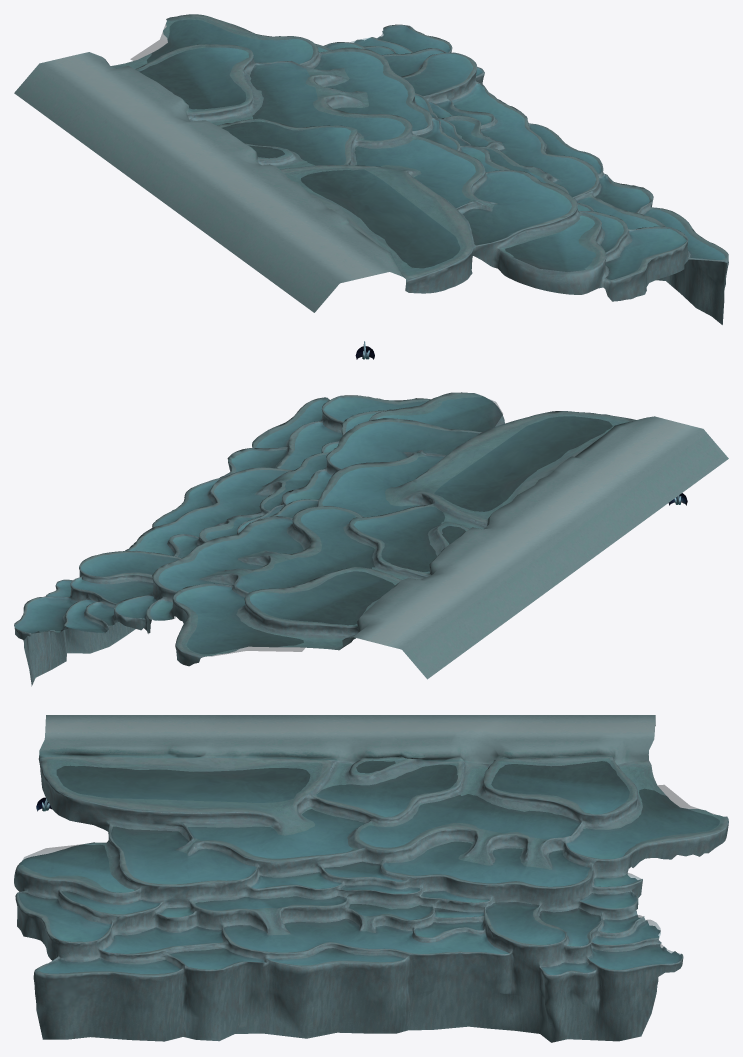
File: SaltFlatsEnvironment.fbx
The picture shows the model from 3 angles, top to bottom: view 1: azimuth 30°, elevation 25°; view 2: azimuth 150°, elevation 25°; view 3: azimuth 270°, elevation 25°; orthographic projection.
Visible parts, largest first — view 1: TerraceBasin_geo, TerraceWater_geo; view 2: TerraceBasin_geo, TerraceWater_geo; view 3: TerraceBasin_geo, TerraceWater_geo.
Part boxes in pixels (<box>): TerraceBasin_geo: <box>14,14,728,324</box>; TerraceWater_geo: <box>130,20,725,279</box>; TerraceBasin_geo: <box>14,392,728,686</box>; TerraceWater_geo: <box>15,396,612,656</box>; TerraceBasin_geo: <box>14,715,728,1042</box>; TerraceWater_geo: <box>19,761,719,974</box>.
Bounding box in the file's own units: 121 × 37.81 × 176.
